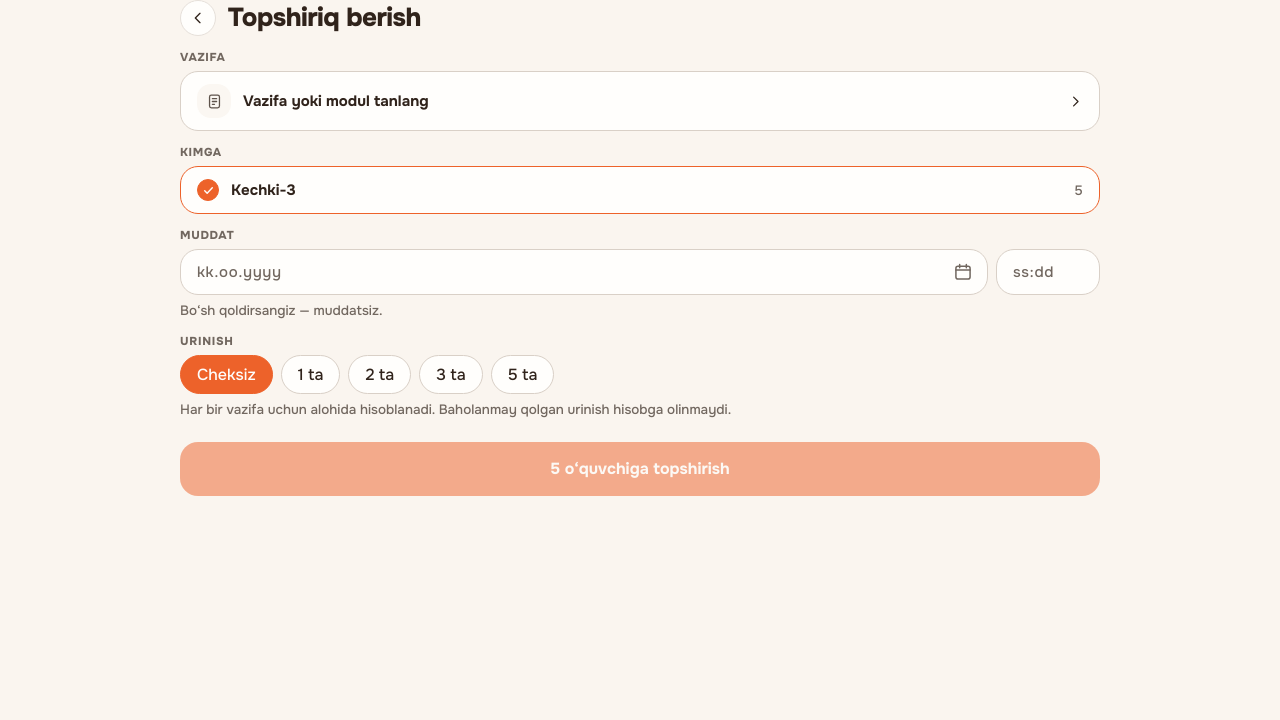
Test: one press, one write › goes inert after a success and re-arms when the teacher changes something
Later steps or results of the test are not shown.
Click the button "Vazifa yoki modul tanlang".
click(214, 101)  # box [180,71,1100,131]
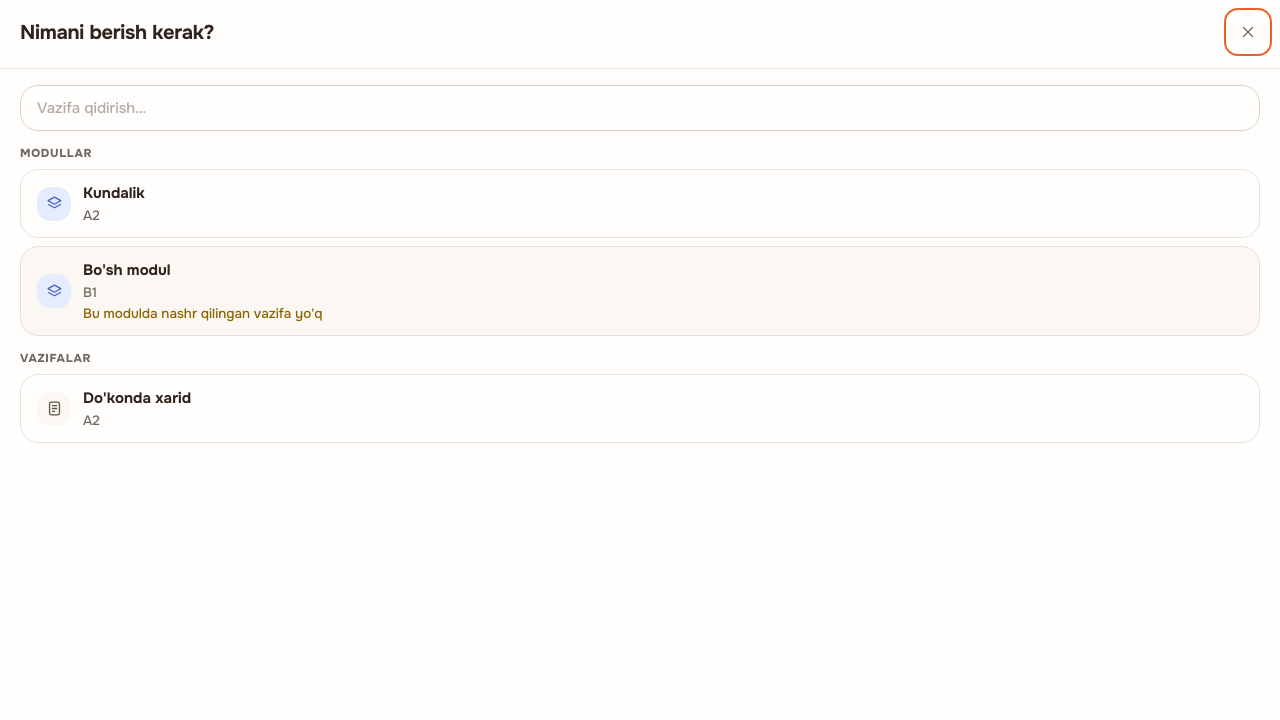
Click the button "Do'konda xarid A2".
click(54, 408)  # box [20,374,1260,443]
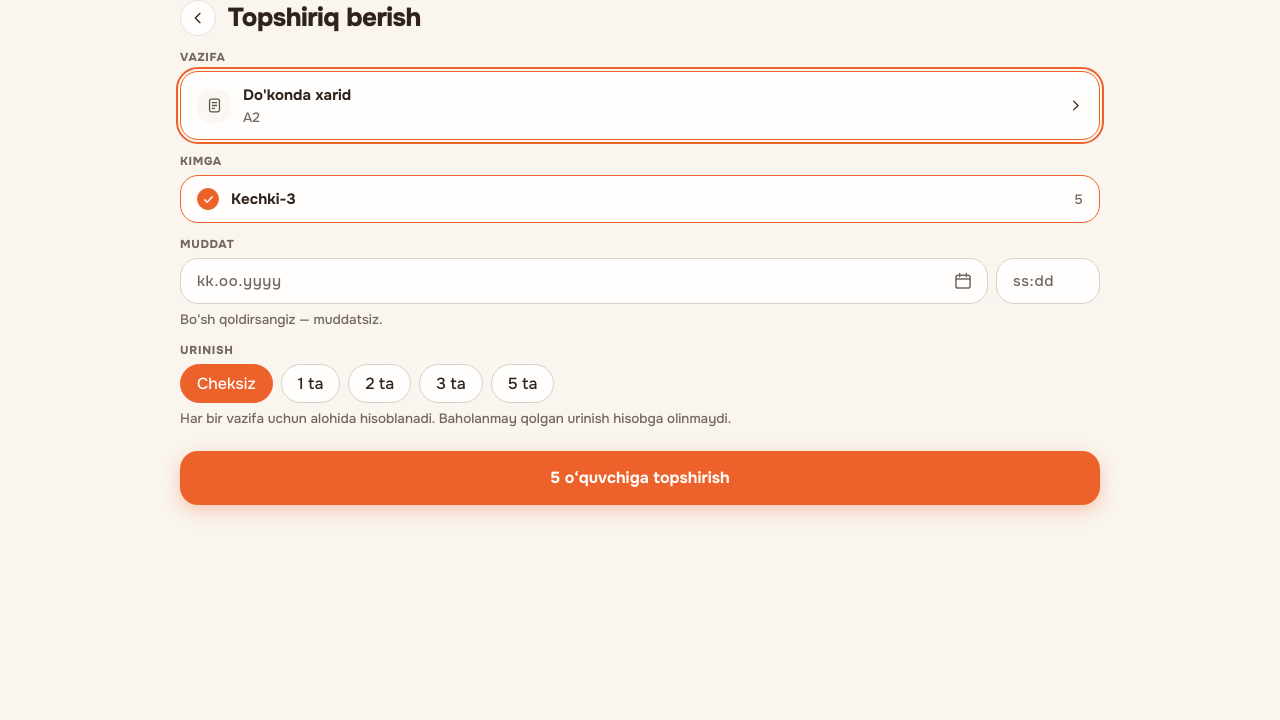
Click the button "5 o‘quvchiga topshirish".
click(640, 478)  # box [180,451,1100,505]
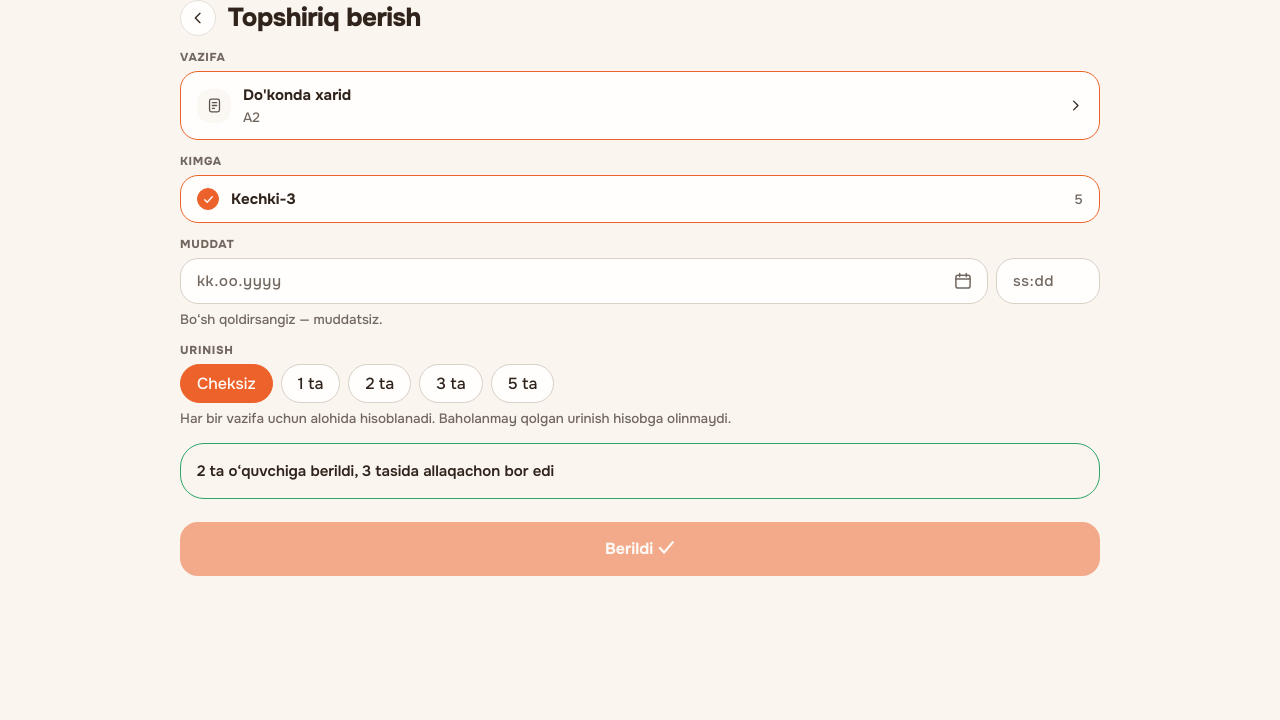
Check: the button "Berildi ✓" is disabled, box [180,522,1100,576]
